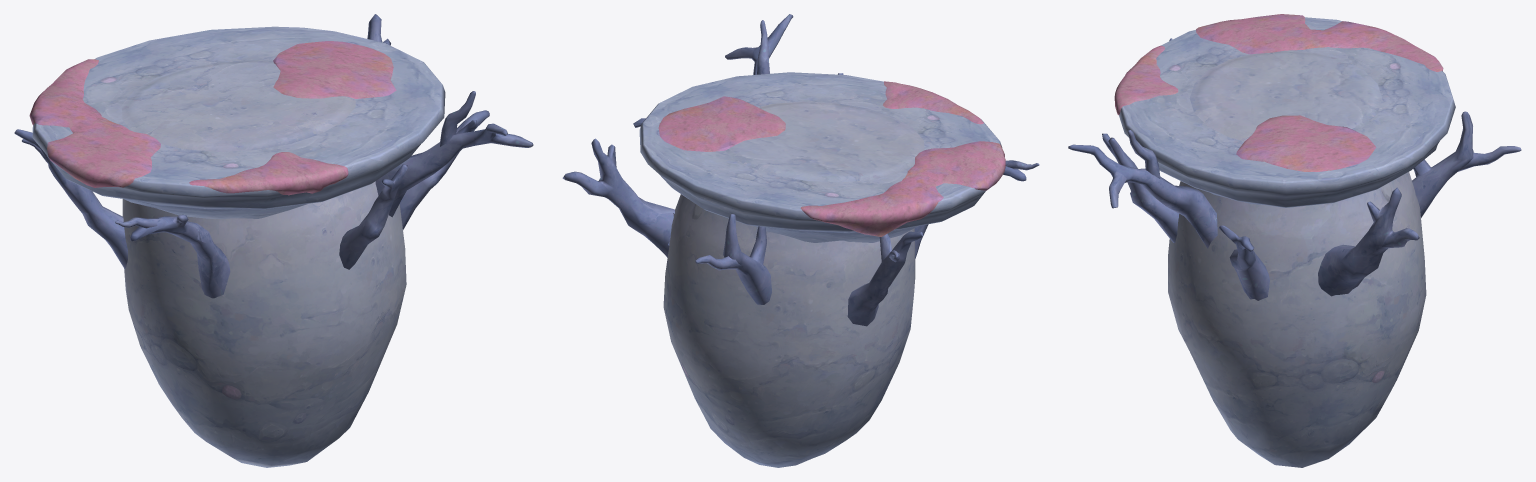
The model's file is Homeworld_Exterior_Fd_Rockery_Plot_RycPingtai_02_Lod0.fbx.
3 renders of one model, left to right at view 1: azimuth 30°, elevation 25°; view 2: azimuth 150°, elevation 25°; view 3: azimuth 270°, elevation 25°, orthographic. The views are drawn at different scales.
Parts seen in each view (by area): view 1: Area_Fd_Plot_RYC_Pingtai_02_Lod0, Area_Fd_Plot_RYC_Pingtai_02_TX_Lod0; view 2: Area_Fd_Plot_RYC_Pingtai_02_Lod0, Area_Fd_Plot_RYC_Pingtai_02_TX_Lod0; view 3: Area_Fd_Plot_RYC_Pingtai_02_Lod0, Area_Fd_Plot_RYC_Pingtai_02_TX_Lod0.
Boxes of the visible parts, left/top/right/bottom form: Area_Fd_Plot_RYC_Pingtai_02_Lod0: left=14, top=14, right=533, bottom=467; Area_Fd_Plot_RYC_Pingtai_02_TX_Lod0: left=29, top=41, right=396, bottom=195; Area_Fd_Plot_RYC_Pingtai_02_Lod0: left=562, top=14, right=1039, bottom=467; Area_Fd_Plot_RYC_Pingtai_02_TX_Lod0: left=658, top=81, right=1005, bottom=236; Area_Fd_Plot_RYC_Pingtai_02_Lod0: left=1068, top=17, right=1521, bottom=467; Area_Fd_Plot_RYC_Pingtai_02_TX_Lod0: left=1114, top=14, right=1443, bottom=171.
Size of the model in its own units: 13.56 by 12.48 by 13.61.
